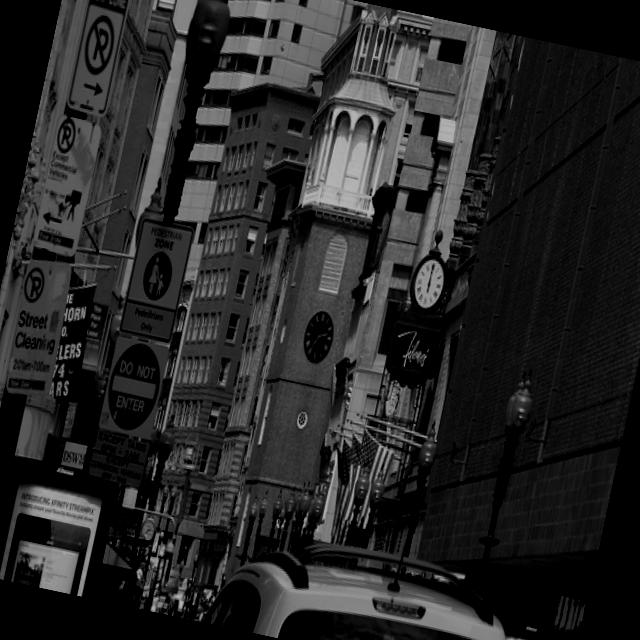Vehicle: (203, 518, 532, 640)
